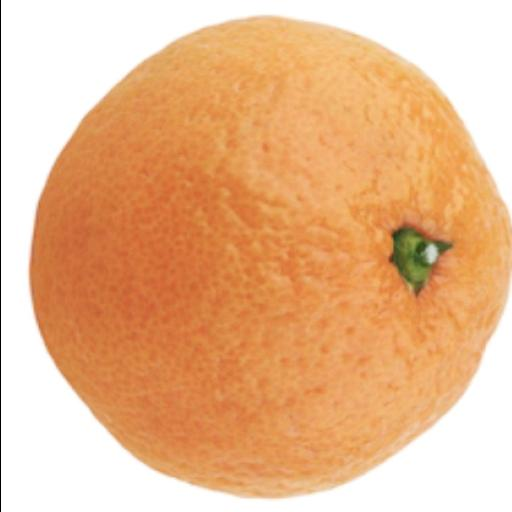orange: (31, 18, 510, 497)
